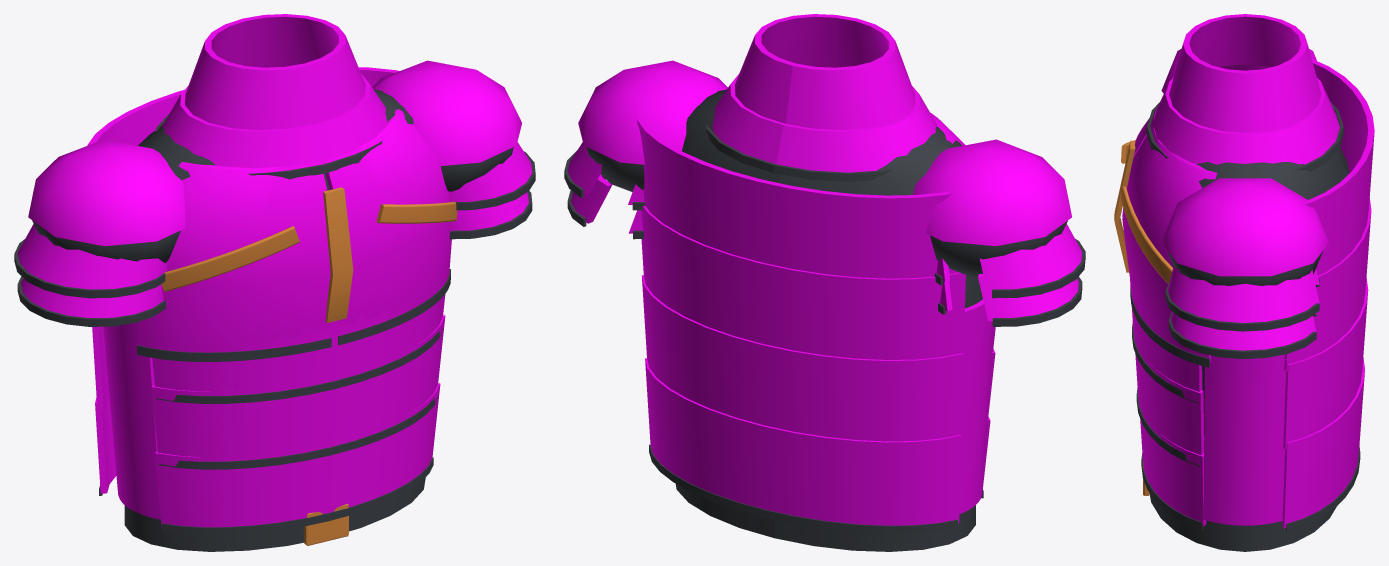
File: objet_armure3_plastron.glb
3 renders of one model, left to right at view 1: azimuth 30°, elevation 25°; view 2: azimuth 150°, elevation 25°; view 3: azimuth 270°, elevation 25°, orthographic. The views are drawn at different scales.
Visible parts, largest first — view 1: poitrine__plastron_teinte.010, ventre__plastron_teinte.010, poitrine__plastron_teinte_sombre.008, ventre__plastron_teinte_sombre.008, poitrine__plastron_composite_bande.002, ventre__plastron_composite_bande.002; view 2: poitrine__plastron_teinte.010, ventre__plastron_teinte.010, poitrine__plastron_teinte_sombre.008, ventre__plastron_teinte_sombre.008; view 3: poitrine__plastron_teinte.010, ventre__plastron_teinte.010, poitrine__plastron_teinte_sombre.008, ventre__plastron_teinte_sombre.008, poitrine__plastron_composite_bande.002.
Boxes of the visible parts, x1,y1,x2,y2 form: poitrine__plastron_teinte.010: (18, 14, 532, 352); ventre__plastron_teinte.010: (92, 294, 445, 527); poitrine__plastron_teinte_sombre.008: (14, 89, 535, 361); ventre__plastron_teinte_sombre.008: (99, 328, 443, 551); poitrine__plastron_composite_bande.002: (161, 187, 457, 322); ventre__plastron_composite_bande.002: (304, 504, 348, 545); poitrine__plastron_teinte.010: (568, 14, 1082, 359); ventre__plastron_teinte.010: (641, 275, 995, 525); poitrine__plastron_teinte_sombre.008: (564, 89, 1085, 326); ventre__plastron_teinte_sombre.008: (649, 444, 983, 551); poitrine__plastron_teinte.010: (1122, 14, 1374, 371); ventre__plastron_teinte.010: (1130, 278, 1368, 528); poitrine__plastron_teinte_sombre.008: (1130, 64, 1349, 367); ventre__plastron_teinte_sombre.008: (1132, 323, 1360, 551); poitrine__plastron_composite_bande.002: (1114, 140, 1172, 283).
Size of the model in its own units: 0.4163 by 0.3672 by 0.1956.
